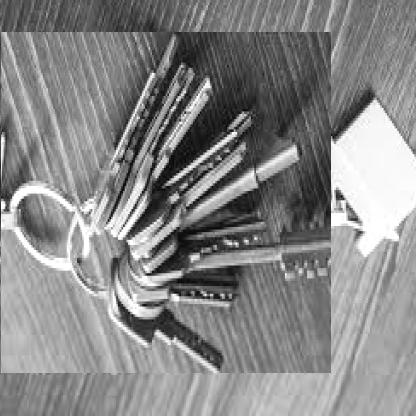key: (0, 32, 331, 372)
